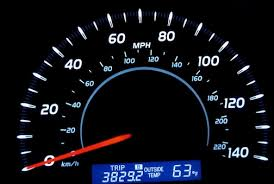Digital_Meter: (83, 158, 205, 184)
